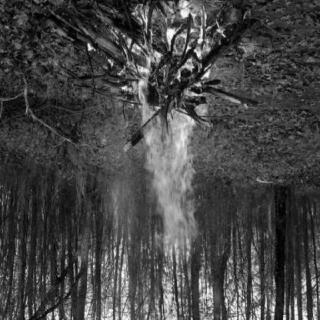Fire: (106, 0, 222, 270)
